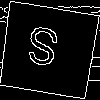S: (23, 25, 61, 76)
